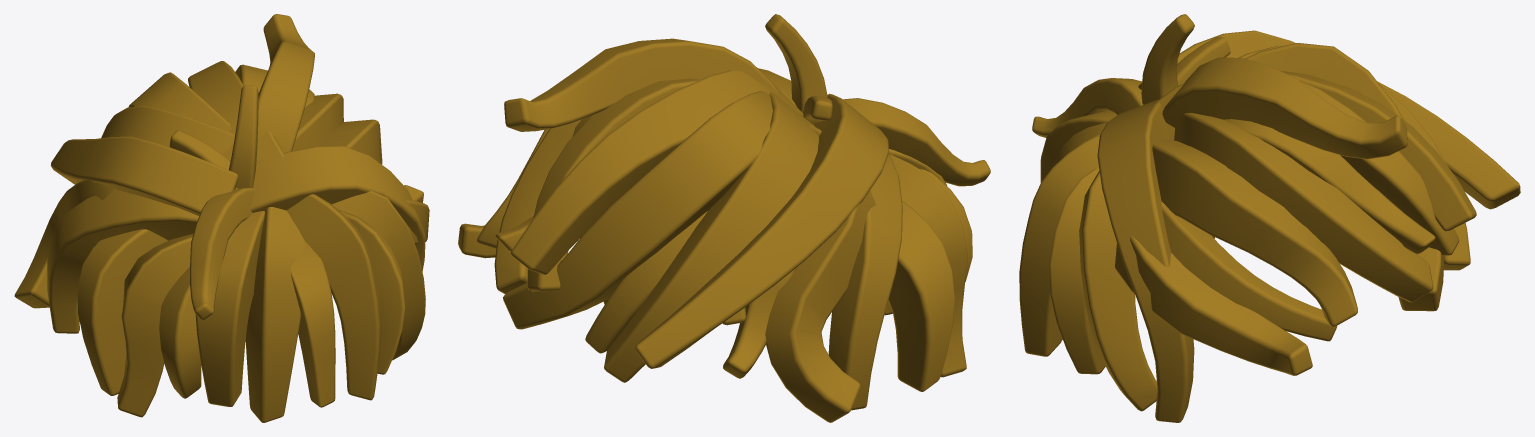
Rendered from Hair01.fbx.
The picture shows the model from 3 angles, left to right: view 1: azimuth 30°, elevation 25°; view 2: azimuth 150°, elevation 25°; view 3: azimuth 270°, elevation 25°; orthographic projection. The views are drawn at different scales.
Visible parts, largest first — view 1: Hair01; view 2: Hair01; view 3: Hair01.
Boxes of the visible parts, x1,y1,x2,y2 form: Hair01: (14,14,429,422); Hair01: (458,14,990,422); Hair01: (1019,14,1520,422).
Bounding box in the file's own units: 37.47 × 27.97 × 38.59.
